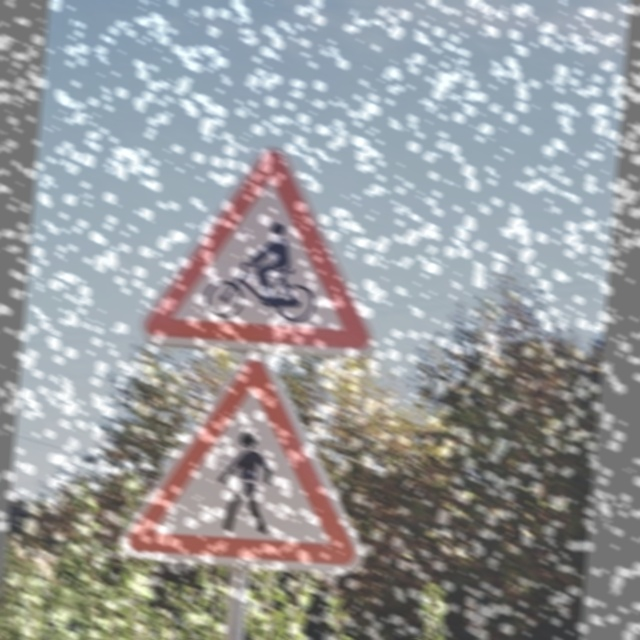Cycle_Crossing: (135, 134, 387, 363)
